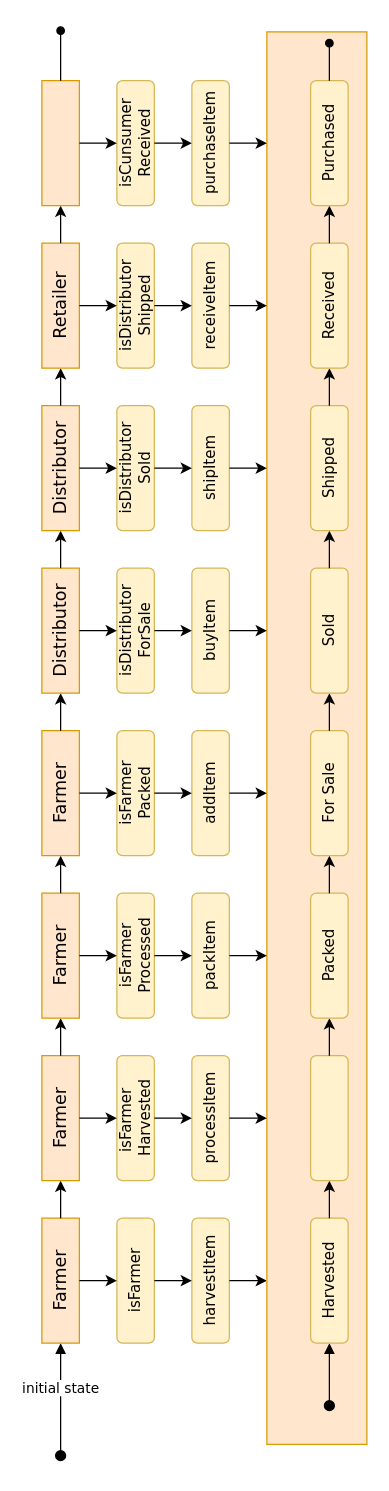
This 389x1491 diagram has some shape labels left out. Each missing label, with the centre of its shape:
"Coffee State" goes at (316,737).
"Consumer" goes at (60,142).
"Processed" goes at (328,1117).
